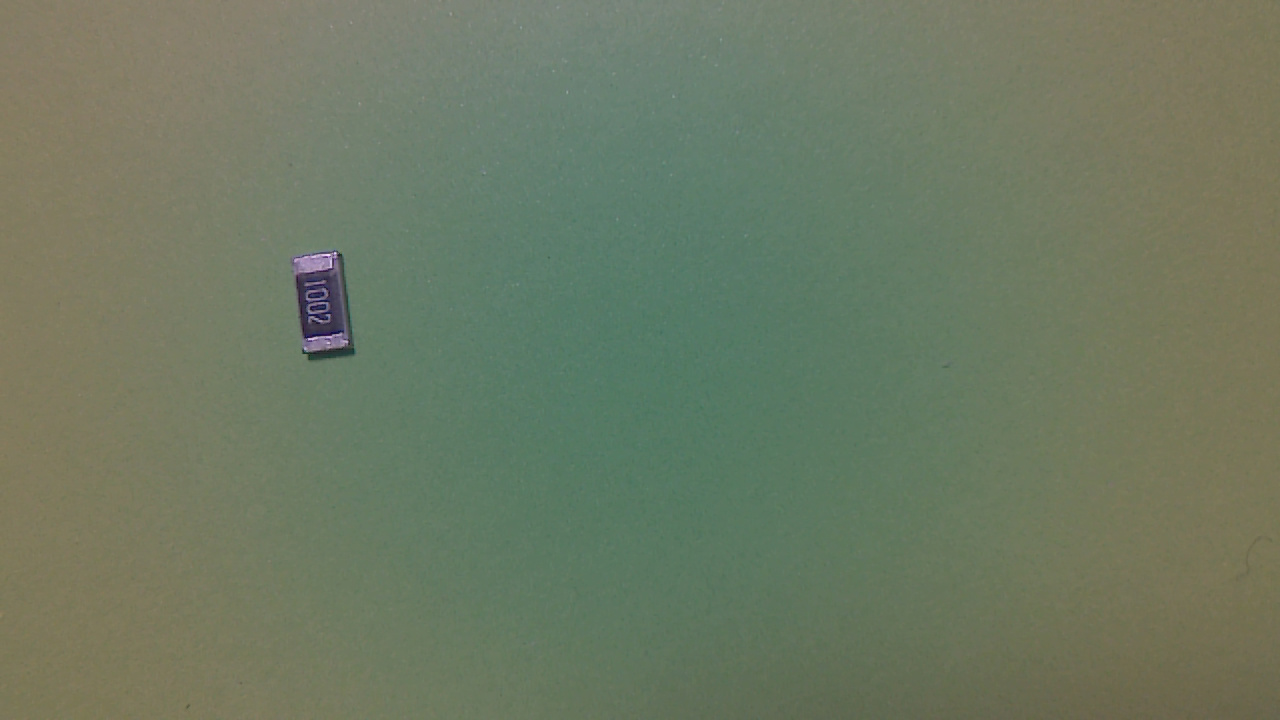Resistor: (290, 251, 370, 367)
